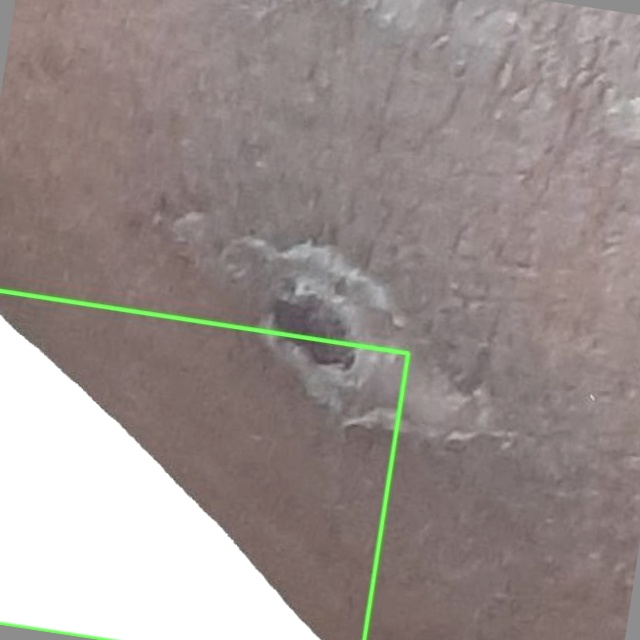Contact Dermatitis: (0, 290, 408, 639)
